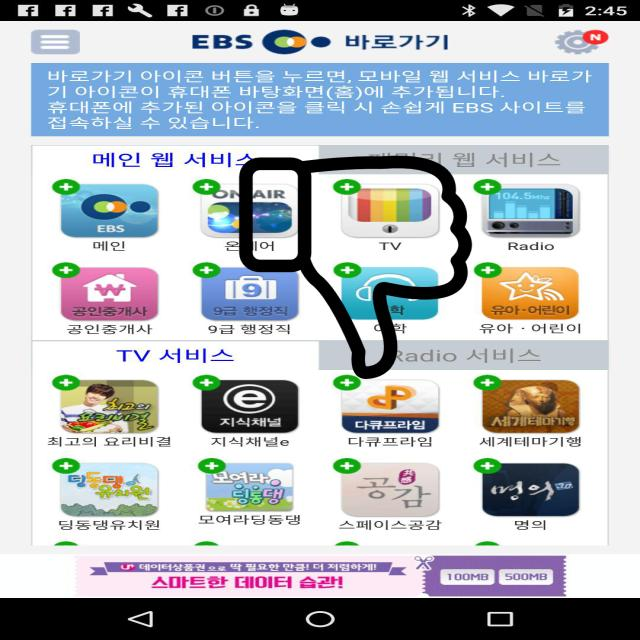obstruction: (236, 156, 475, 379)
